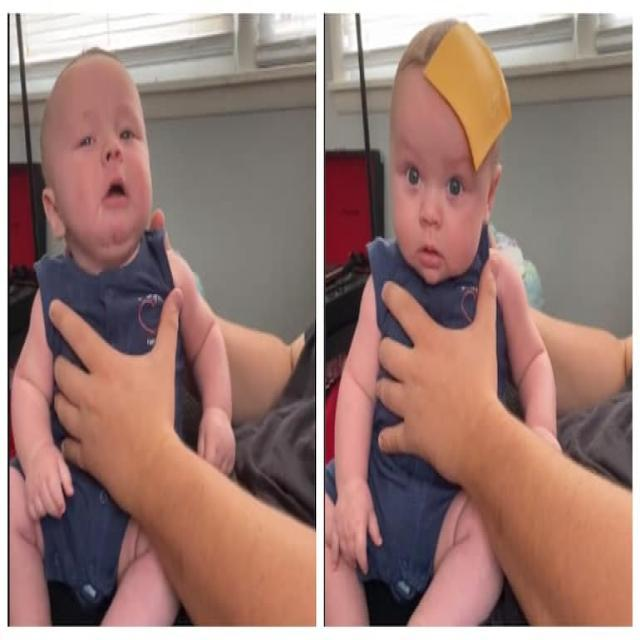non-dog: (328, 18, 557, 631), (11, 54, 235, 622), (50, 219, 316, 627), (376, 252, 639, 622)
